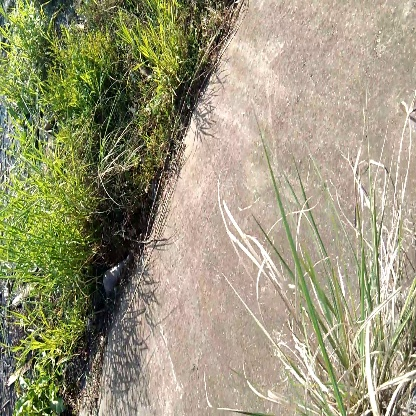plastic-bag: (96, 257, 135, 294)
